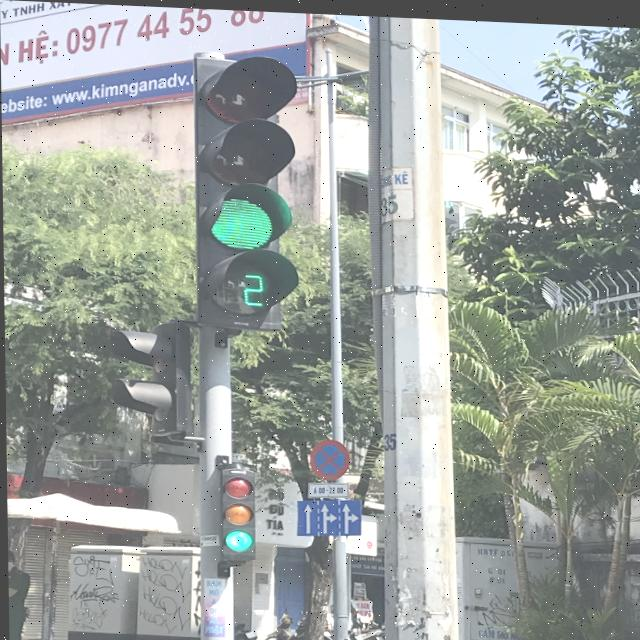Green: (174, 58, 310, 250), (197, 453, 266, 554)
